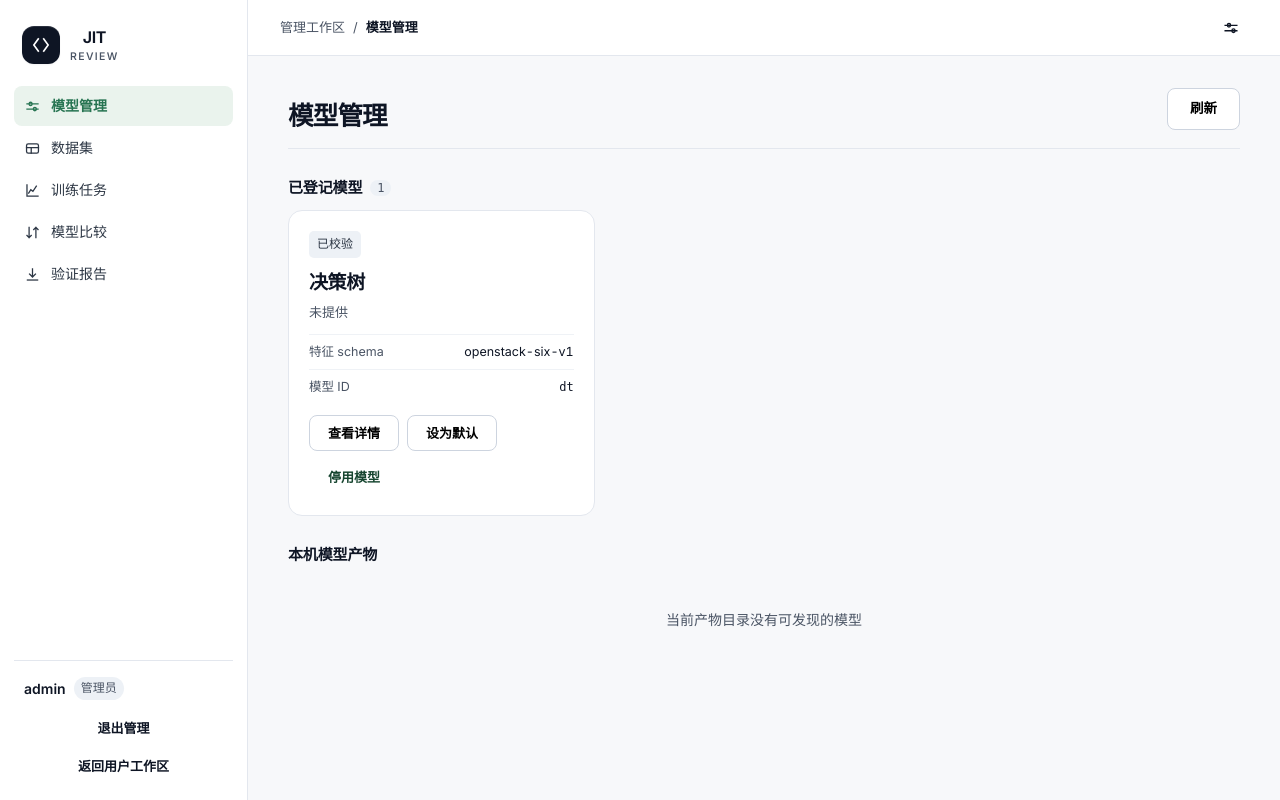
Scenario: keeps the saved policy and a recovery message when a write is rejected
This screenshot has width=1280, height=800.
What coordinates should you click on to do the following:
click the button "设为默认"
I would click on:
 (452, 433)
Its box is x1=407 y1=415 x2=497 y2=451.
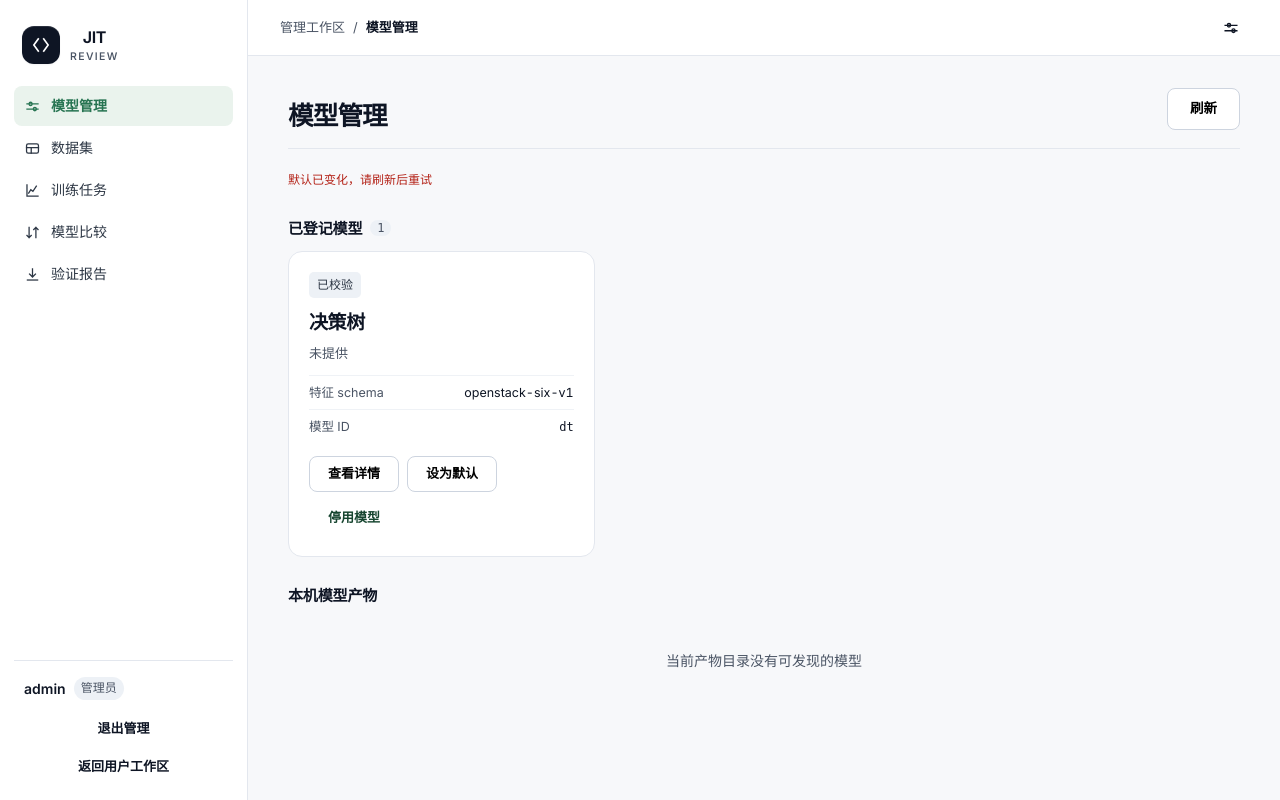
Expected: the button "刷新" is enabled, x1=1167 y1=88 x2=1240 y2=130
Result: the message reads "默认已变化，请刷新后重试" at x1=288 y1=172 x2=432 y2=187
